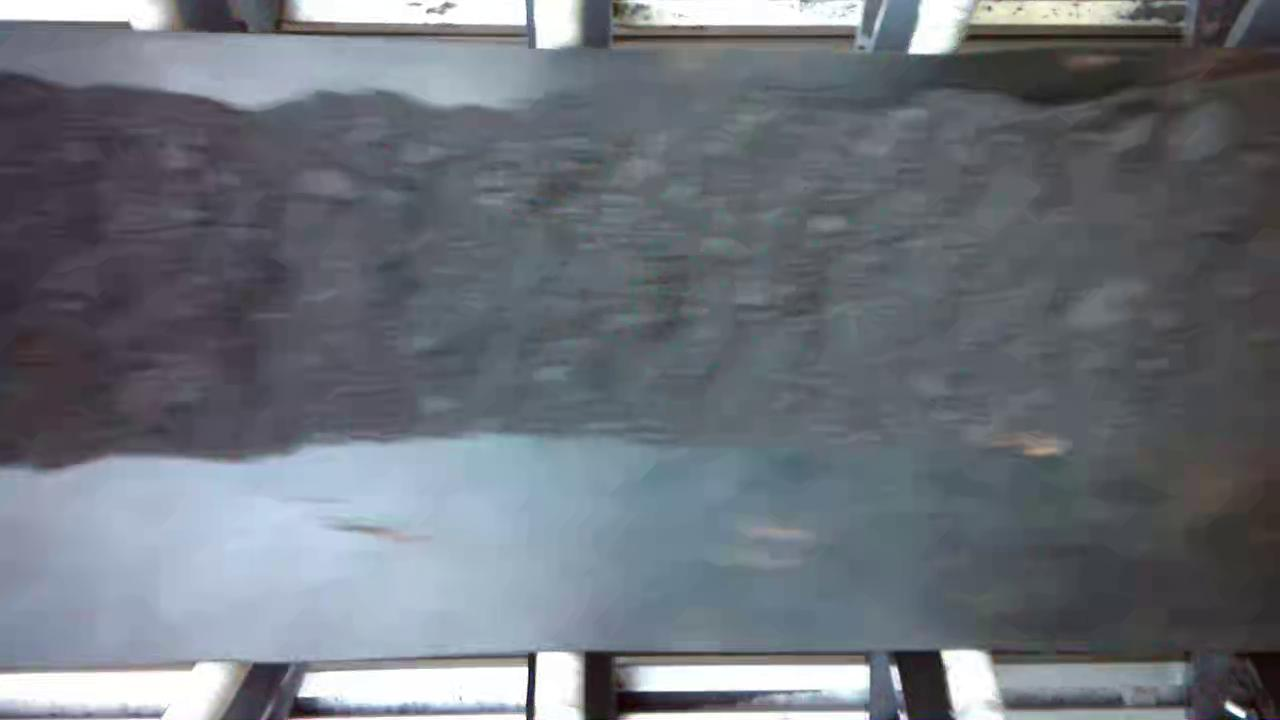conveyor: (9, 67, 1276, 642)
